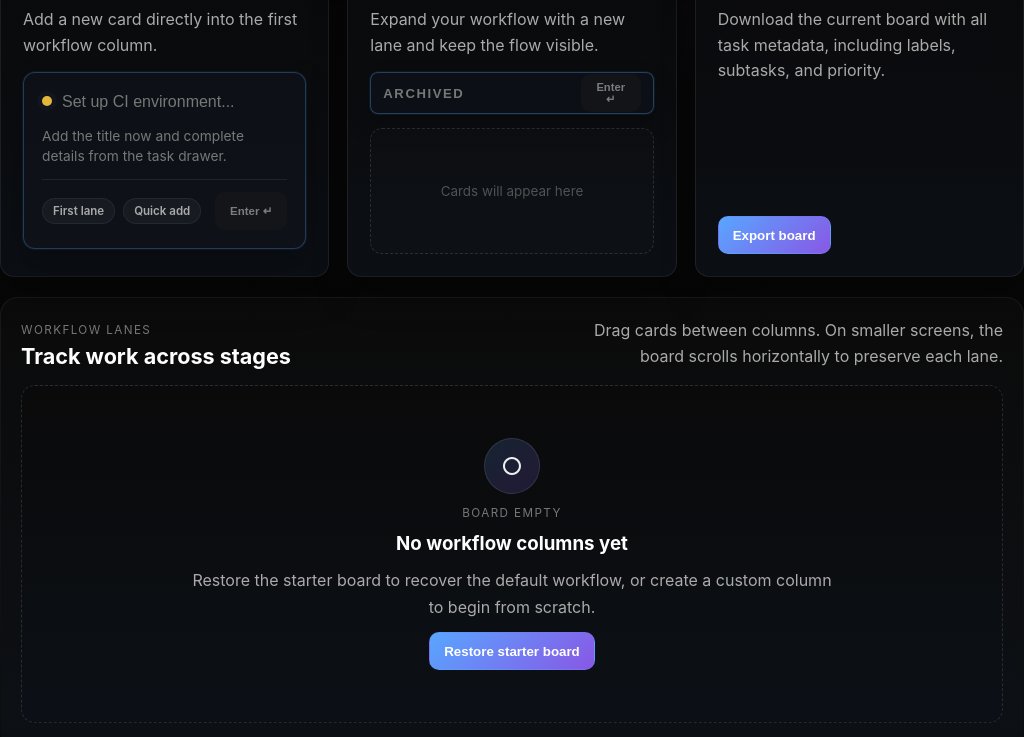
Scenario: renders an empty board state and can restore starter columns
The image size is (1024, 737).
(page scrolled)
Expected: the heading "No workflow columns yet" is shown, [396,532,628,556]
Click the button "Restore starter board". click: (512, 651)
box: [429,632,595,670]
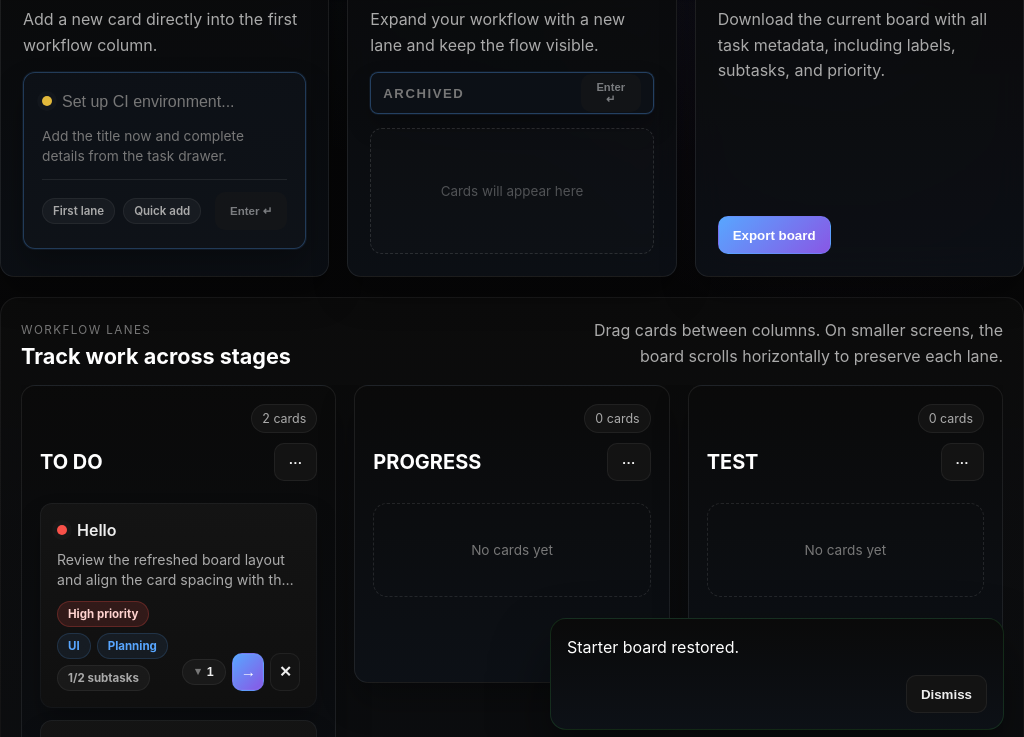
Expected: the heading "TO DO" is shown, [40,450,103,474]
